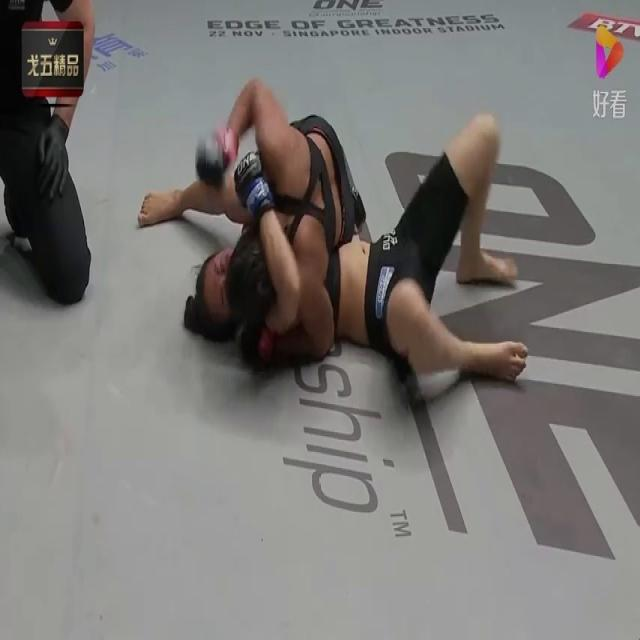fight: (128, 68, 528, 380)
